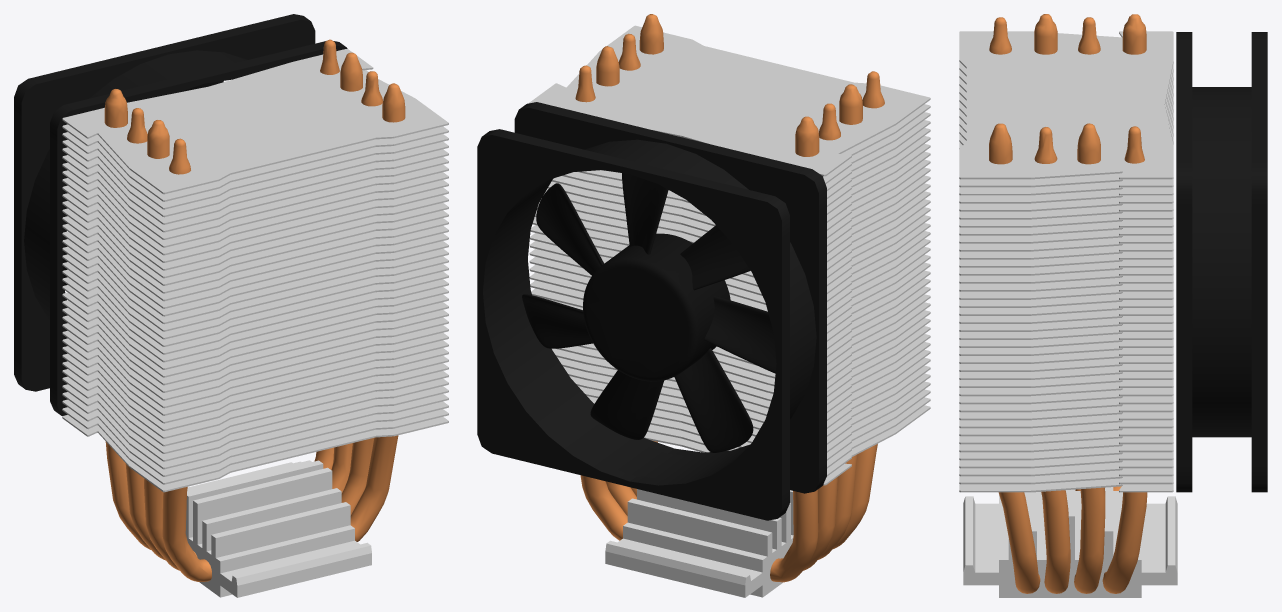
Rendered from cooler_tower_lod1.glb.
3 views of the same model, side by side, from view 1: azimuth 30°, elevation 25°; view 2: azimuth 150°, elevation 25°; view 3: azimuth 270°, elevation 25° (orthographic). The views are drawn at different scales.
Parts seen in each view (by area): view 1: Object_4, Object_6, Object_5, Object_3; view 2: Object_4, Object_6, Object_2, Object_3, Object_5; view 3: Object_4, Object_6, Object_3, Object_5.
Part boxes in pixels (left/top/right/bottom): Object_4: left=62, top=49, right=448, bottom=492; Object_6: left=14, top=14, right=347, bottom=416; Object_5: left=185, top=460, right=371, bottom=597; Object_3: left=104, top=39, right=405, bottom=581; Object_4: left=529, top=25, right=930, bottom=485; Object_6: left=477, top=102, right=826, bottom=520; Object_2: left=522, top=173, right=776, bottom=452; Object_3: left=575, top=14, right=884, bottom=582; Object_5: left=605, top=489, right=793, bottom=597; Object_4: left=959, top=31, right=1173, bottom=492; Object_6: left=1176, top=32, right=1267, bottom=492; Object_3: left=989, top=14, right=1147, bottom=593; Object_5: left=963, top=487, right=1177, bottom=597.
Bounding box in the file's own units: 2.93 × 4.48 × 2.53.
